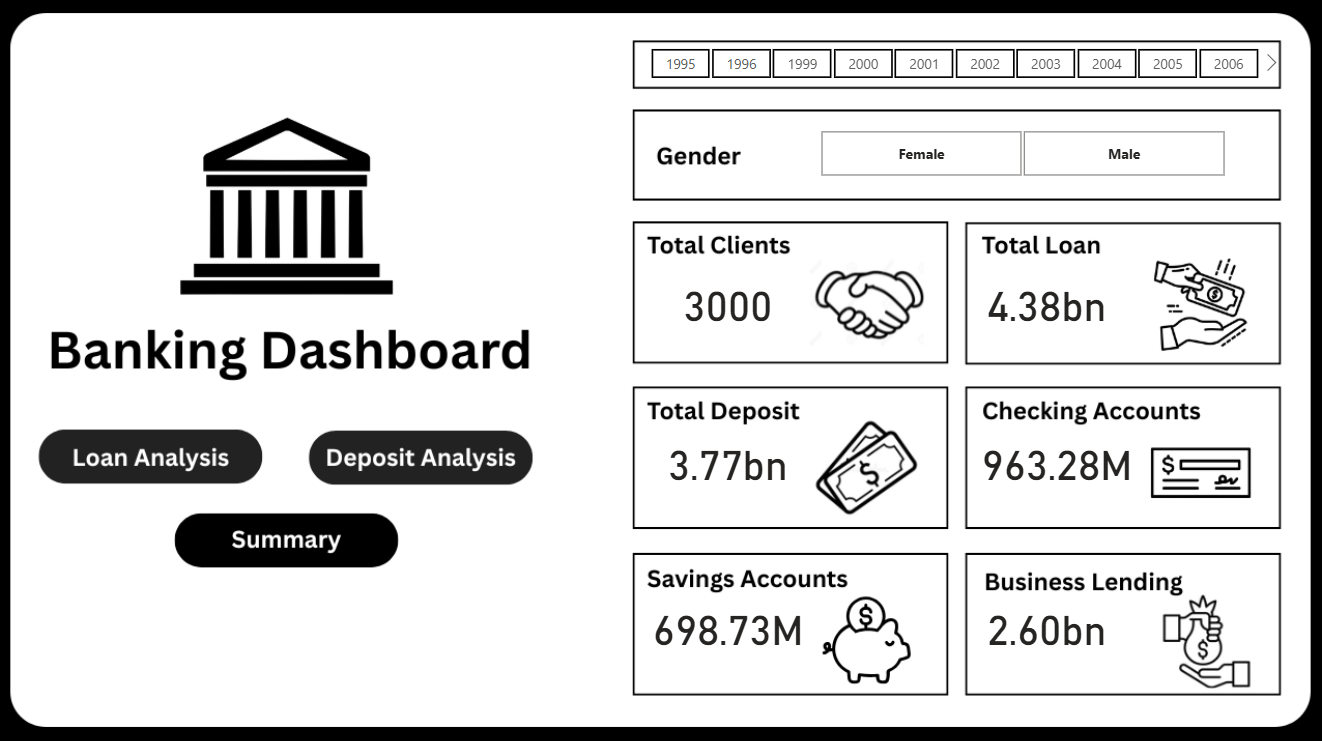

This screenshot's page, from the dashboard's own definition file:
{"tool":"powerbi","page":{"name":"Home","canvas":[1280,720],"ordinal":0},"visuals":[{"type":"card","fields":{"Values":["Banking_Clients.Total loan"]},"box":[855.4,218.4,313.7,149.6],"z":0},{"type":"slicer","fields":{"Values":["Banking_Clients.GenderId"]},"box":[768.5,120.6,439.1,56.7],"z":1000},{"type":"card","fields":{"Values":["CountNonNull(Banking_Clients.Name)"]},"box":[604.4,218.4,200.3,149.6],"z":2000},{"type":"card","fields":{"Values":["Banking_Clients.Total Deposits"]},"box":[547.7,371.6,313.7,149.6],"z":3000},{"type":"card","fields":{"Values":["Sum(Banking_Clients.Checking Accounts)"]},"box":[891.6,388.5,260.6,115.8],"z":4000},{"type":"card","fields":{"Values":["Sum(Banking_Clients.Business Lending)"]},"box":[863.8,530.8,296.8,149.6],"z":5000},{"type":"card","fields":{"Values":["Sum(Banking_Clients.Saving Accounts)"]},"box":[553.8,530.8,301.6,149.6],"z":6000},{"type":"actionButton","box":[51.9,422.3,187,39.8],"z":7000},{"type":"actionButton","box":[310.1,422.3,190.6,39.8],"z":8000},{"type":"actionButton","box":[177.3,500.7,201.5,39.8],"z":9000},{"type":"slicer","fields":{"Values":["Banking_Clients.year of joining"]},"box":[604.4,41,635.8,42.2],"z":10000}]}

Visuals, with their boxes in screenshot pixels (x1, y1, x2, y2), scaled from the page's 1280x720 canvas onto the 1322x741 screenshot:
card - Banking_Clients.Total loan: [left=883, top=225, right=1207, bottom=379]
slicer - Banking_Clients.GenderId: [left=794, top=124, right=1247, bottom=182]
card - CountNonNull(Banking_Clients.Name): [left=624, top=225, right=831, bottom=379]
card - Banking_Clients.Total Deposits: [left=566, top=382, right=890, bottom=536]
card - Sum(Banking_Clients.Checking Accounts): [left=921, top=400, right=1190, bottom=519]
card - Sum(Banking_Clients.Business Lending): [left=892, top=546, right=1199, bottom=700]
card - Sum(Banking_Clients.Saving Accounts): [left=572, top=546, right=883, bottom=700]
actionButton: [left=54, top=435, right=247, bottom=476]
actionButton: [left=320, top=435, right=517, bottom=476]
actionButton: [left=183, top=515, right=391, bottom=556]
slicer - Banking_Clients.year of joining: [left=624, top=42, right=1281, bottom=86]
